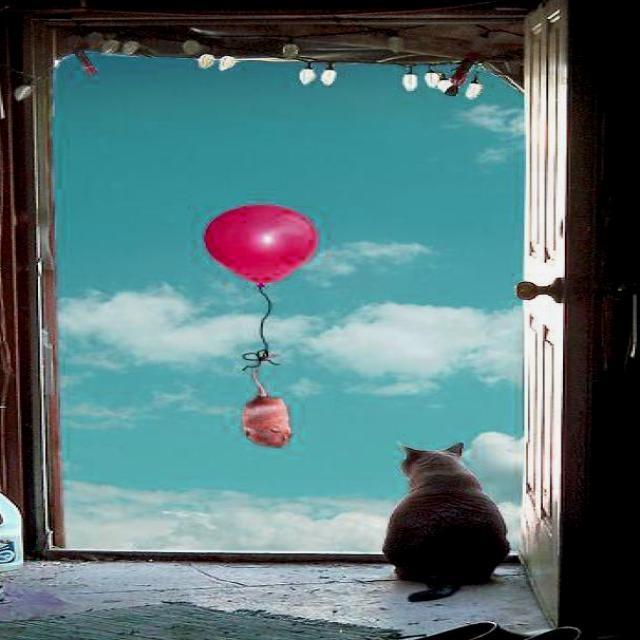door: (514, 3, 600, 634)
